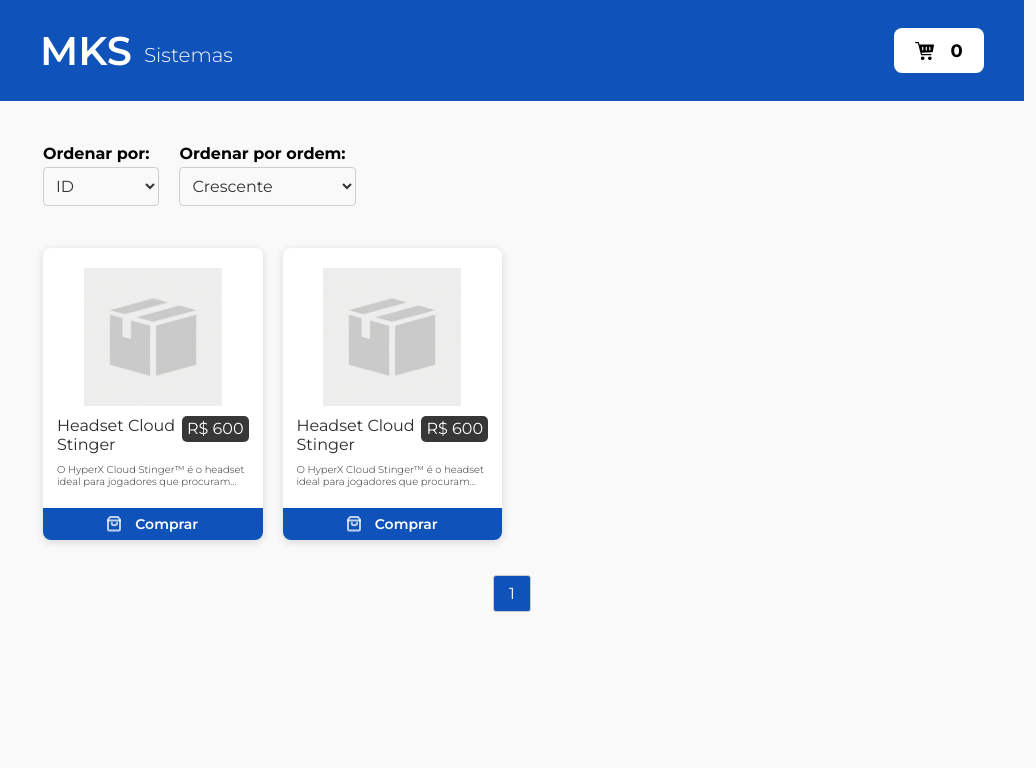
Test case: should remove cart product
Expected: the element with test id "product-0" is shown, [43,248,262,540]
Click the 1st button "Comprar" at (153, 524), box [43,508,262,540]
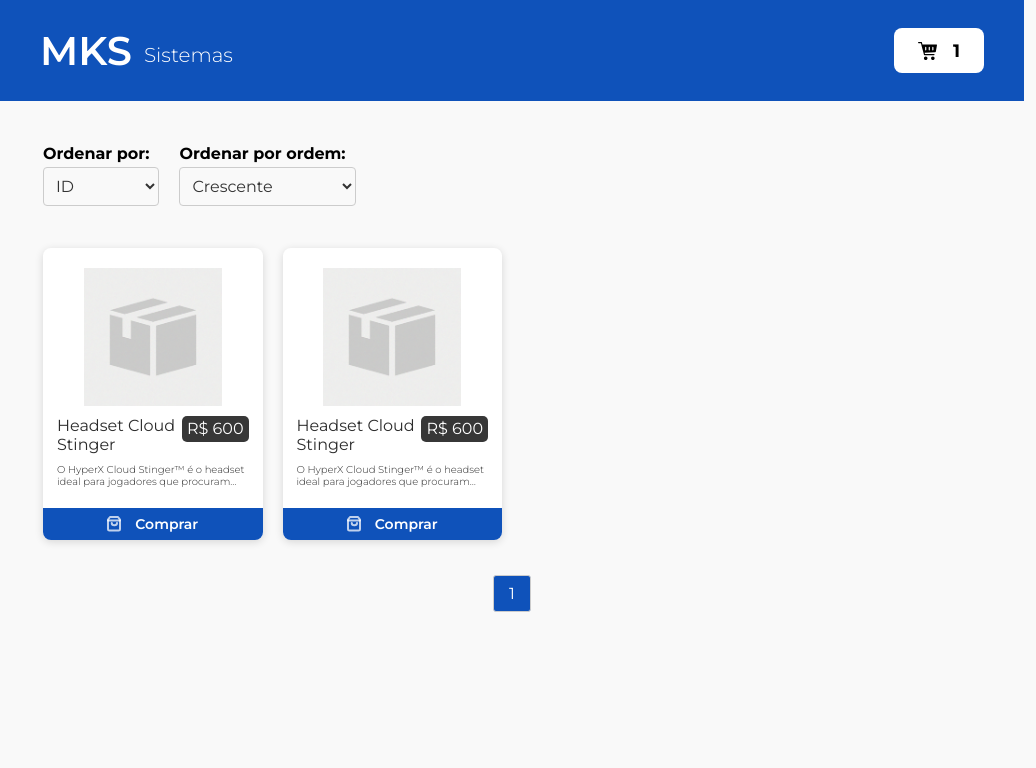
Click the button with test id "open-cart-btn" at (939, 50), box [894,28,984,73]
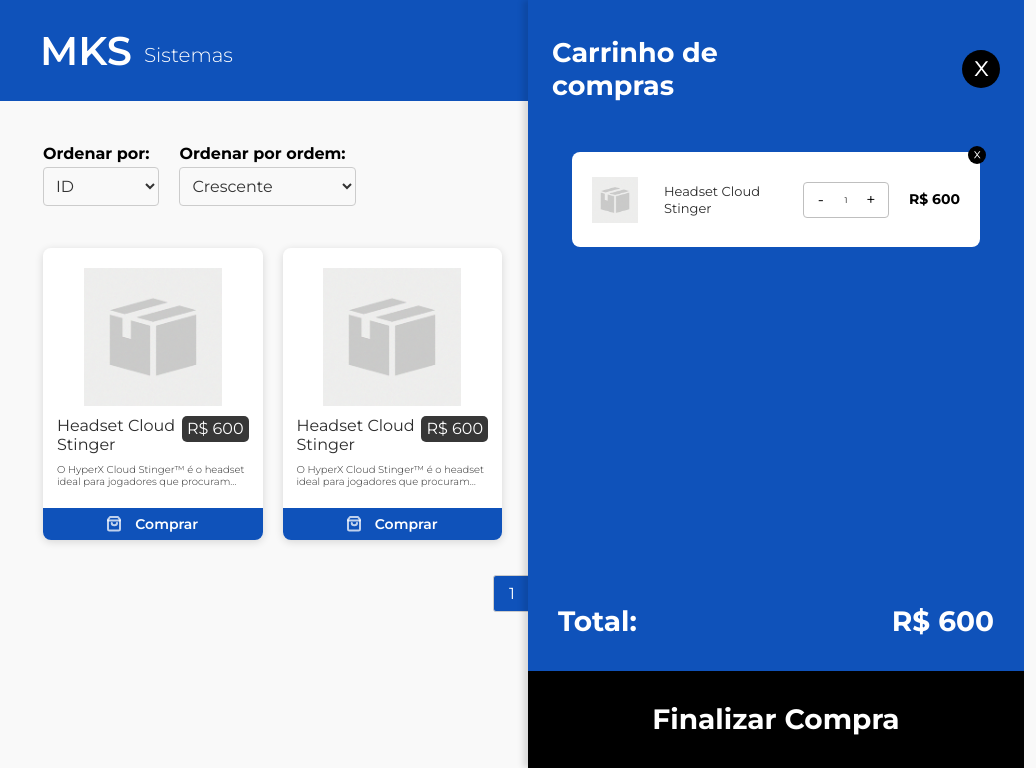
Now the element with test id "cart-product-0" is shown, box [572,152,980,247]
Click the button with test id "remove-product-cart-0" at (977, 155), box [968,146,986,164]
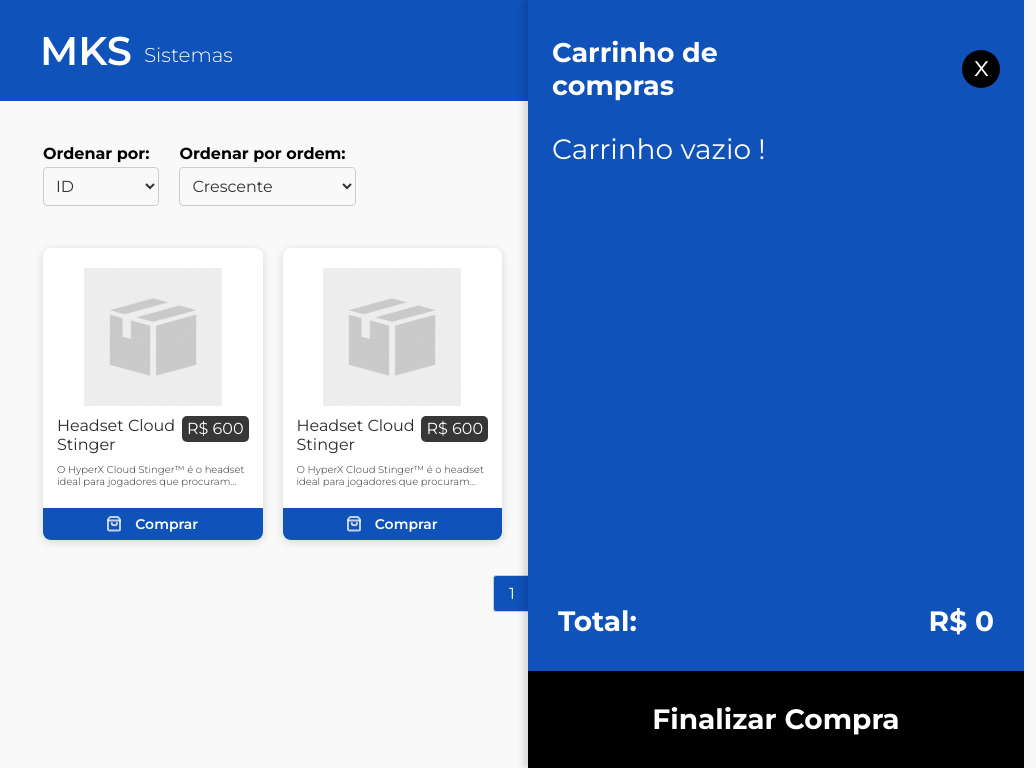
Now the element with test id "cart-product-0" is gone
